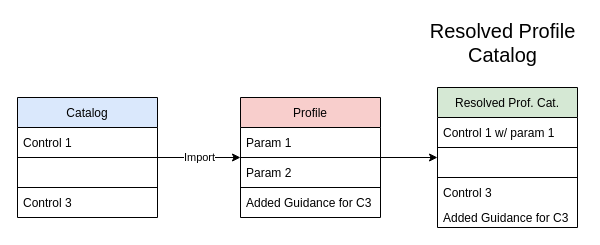
This 600x245 diagram has some shape labels left out. The centre of each missing label's shape, as x and y in pixels:
"Control 2" belongs at pixel 87 172.
"Control 2 w/ param 2" belongs at pixel 507 162.
